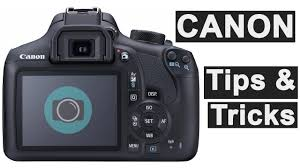camera: (4, 7, 198, 161)
